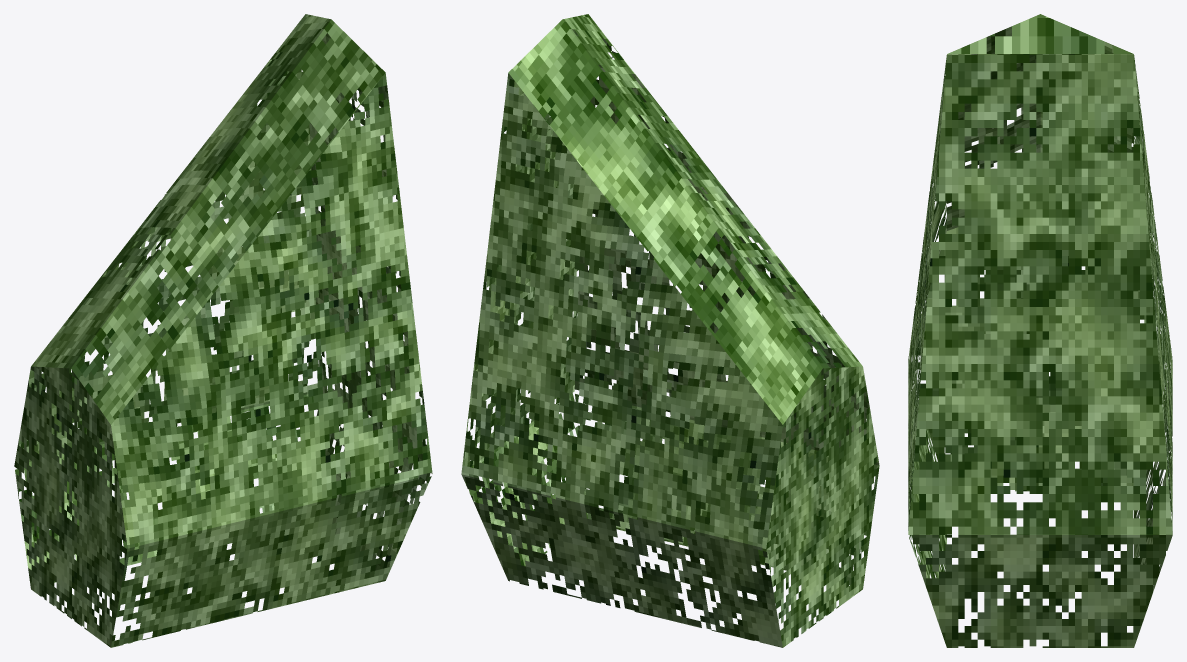
Rendered from bush_connector_high_half_end_summer.glb.
3 renders of one model, left to right at view 1: azimuth 30°, elevation 25°; view 2: azimuth 150°, elevation 25°; view 3: azimuth 270°, elevation 25°, orthographic. The views are drawn at different scales.
Visible parts, largest first — view 1: bush_connector_high_half_end_summer; view 2: bush_connector_high_half_end_summer; view 3: bush_connector_high_half_end_summer.
Part boxes in pixels (box(x1,y1,x2,y2)): bush_connector_high_half_end_summer: box(14, 14, 432, 647); bush_connector_high_half_end_summer: box(461, 14, 879, 647); bush_connector_high_half_end_summer: box(908, 14, 1172, 647).
Size of the model in its own units: 1.12 by 1.88 by 0.7191.
Materials: 1 (1 with a texture image).
